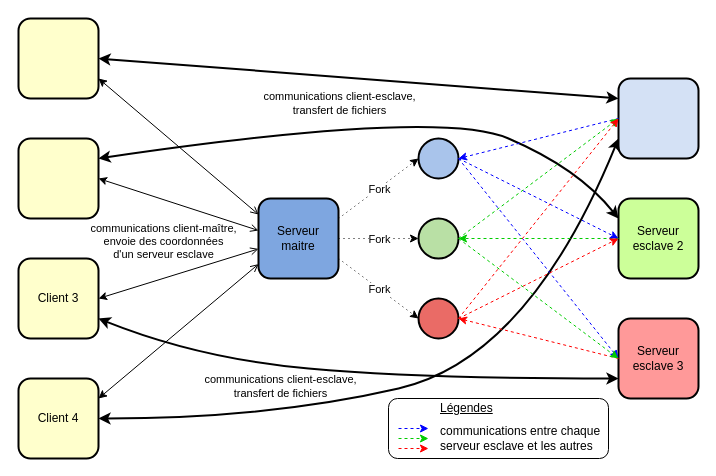
The diagram is 716 pixels wide and 476 high, and some of its shapes have lost their labels. The centre of each missing label's shape, as x and y in pixels:
"Client 1" belongs at (x=58, y=58).
"Client 2" belongs at (x=58, y=178).
"Serveur esclave 1" belongs at (x=658, y=118).
